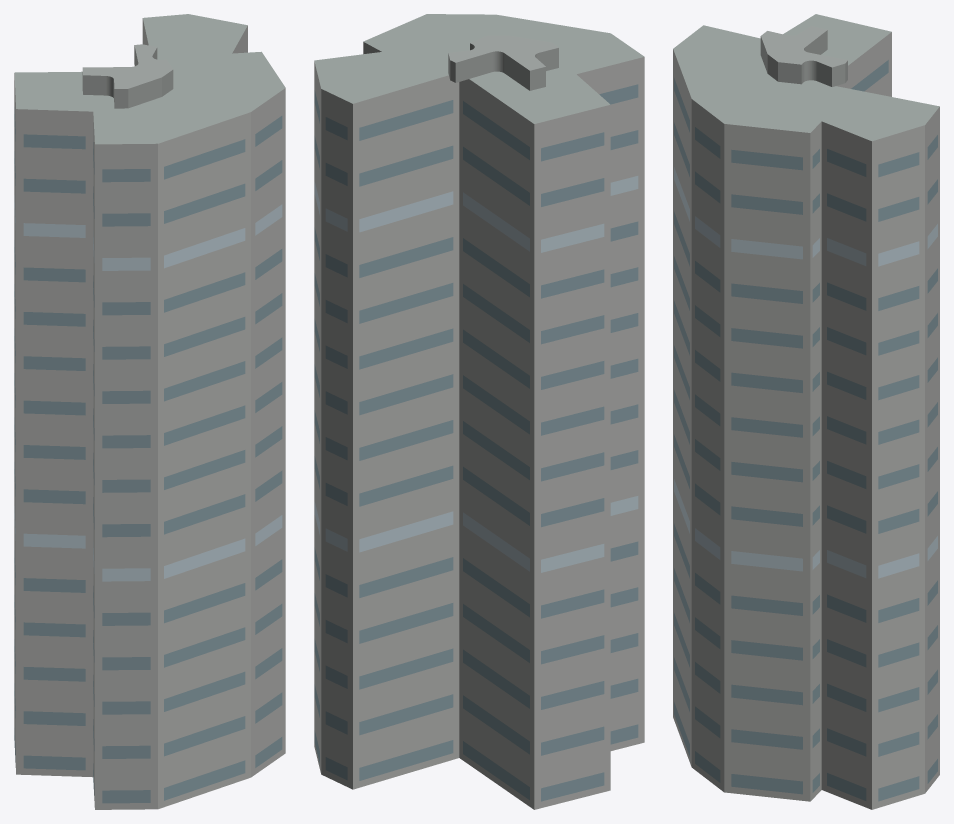
The model's file is fallback-jamsil-parkrio-310.glb.
3 views of the same model, side by side, from view 1: azimuth 30°, elevation 25°; view 2: azimuth 150°, elevation 25°; view 3: azimuth 270°, elevation 25° (orthographic). The views are drawn at different scales.
Parts seen in each view (by area): view 1: fallback-jamsil-parkrio-310; view 2: fallback-jamsil-parkrio-310; view 3: fallback-jamsil-parkrio-310.
Part boxes in pixels (bbox=[...]): fallback-jamsil-parkrio-310: bbox=[14, 14, 285, 809]; fallback-jamsil-parkrio-310: bbox=[314, 14, 644, 809]; fallback-jamsil-parkrio-310: bbox=[673, 14, 939, 809].
Bounding box in the file's own units: 33.33 × 84 × 29.51.
